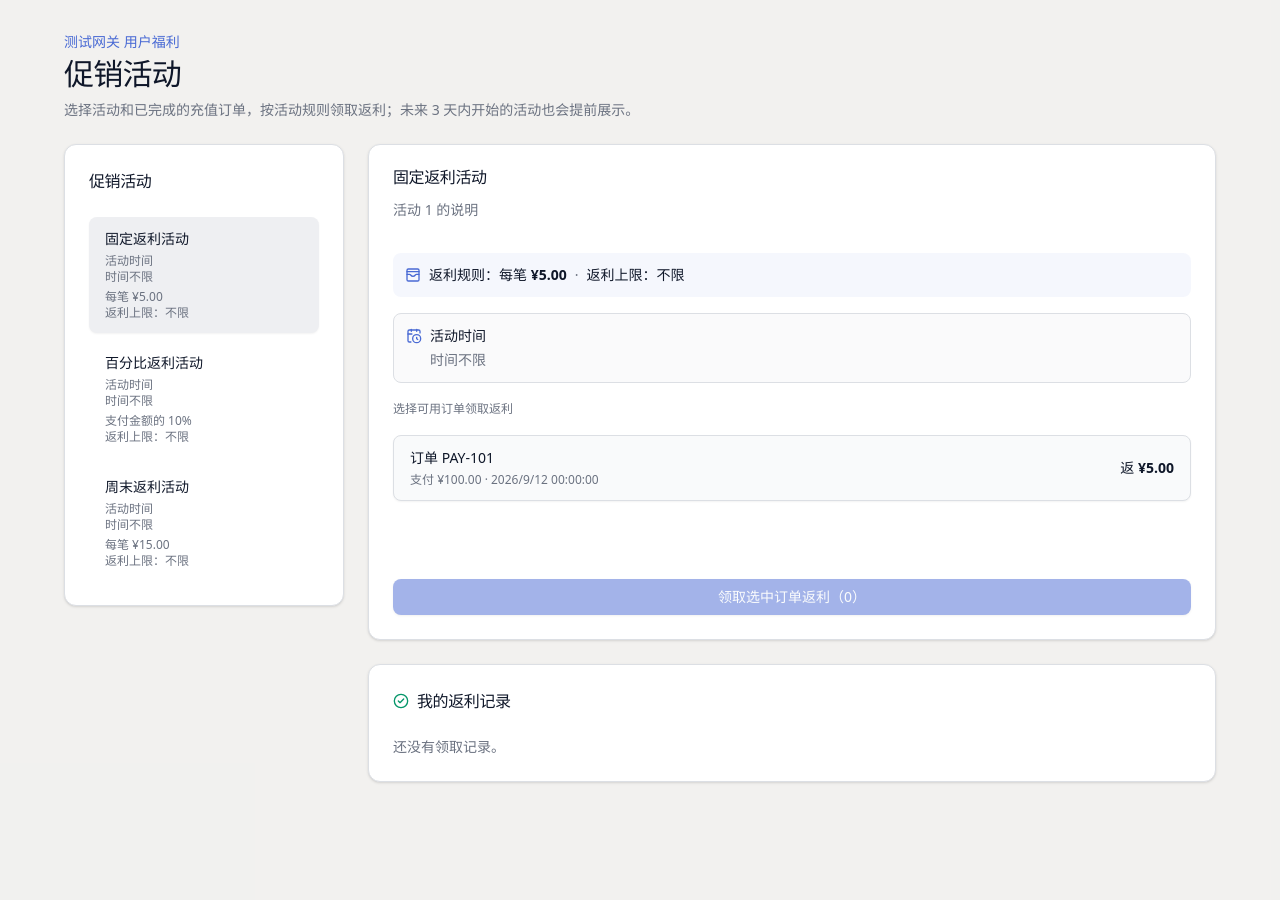
it: 促销活动切换 › 慢请求期间保留当前活动说明和订单节点，禁止领取，完成后一起更新
Click the button "订单 PAY-101 支付 ¥100.00 · 2026/9/12 00:00:00 返 ¥5.00" at [426, 458], box [393,435,1191,501]
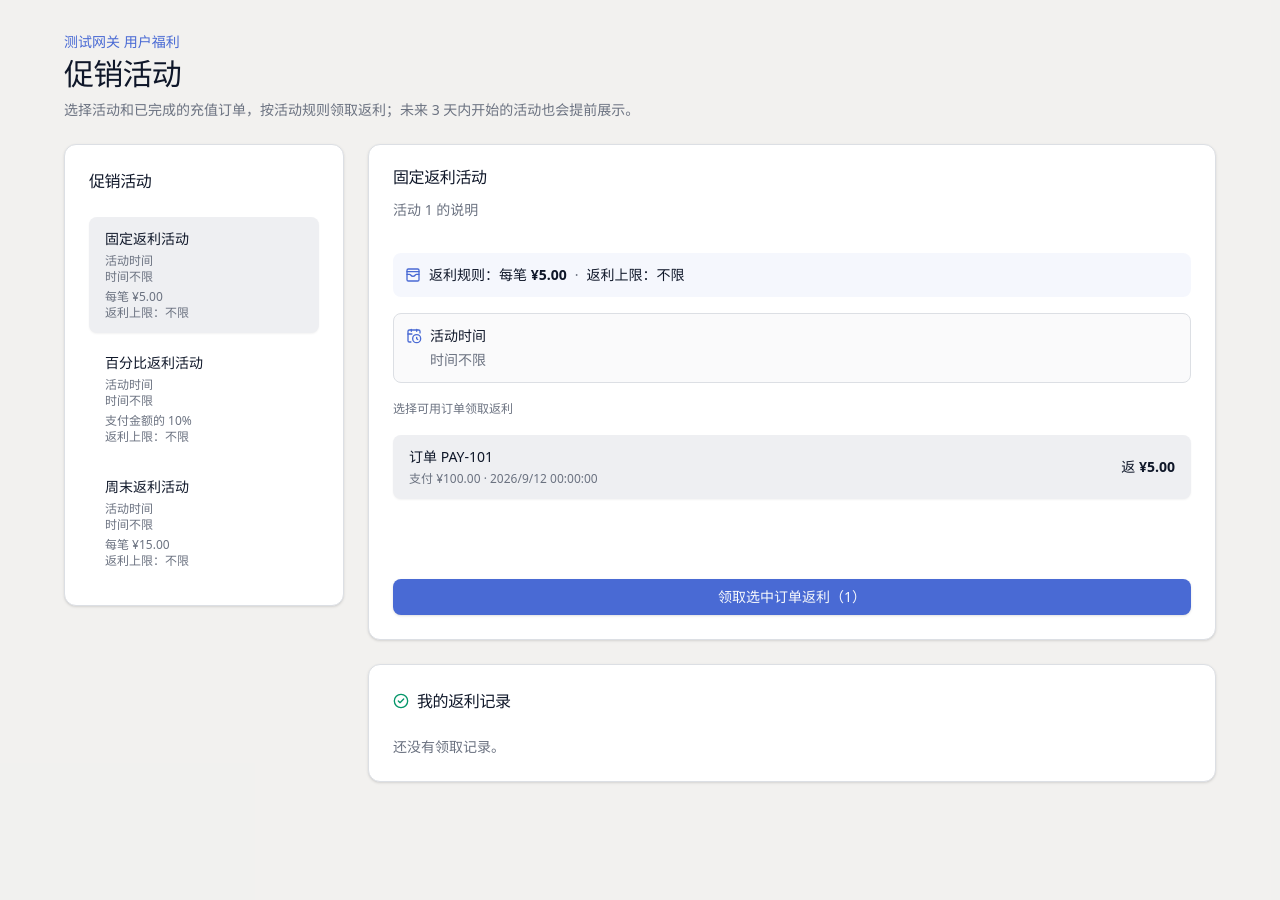
Click the button "百分比返利活动 活动时间 时间不限 支付金额的 10% 返利上限：不限" at [204, 399], box [89,341,319,457]
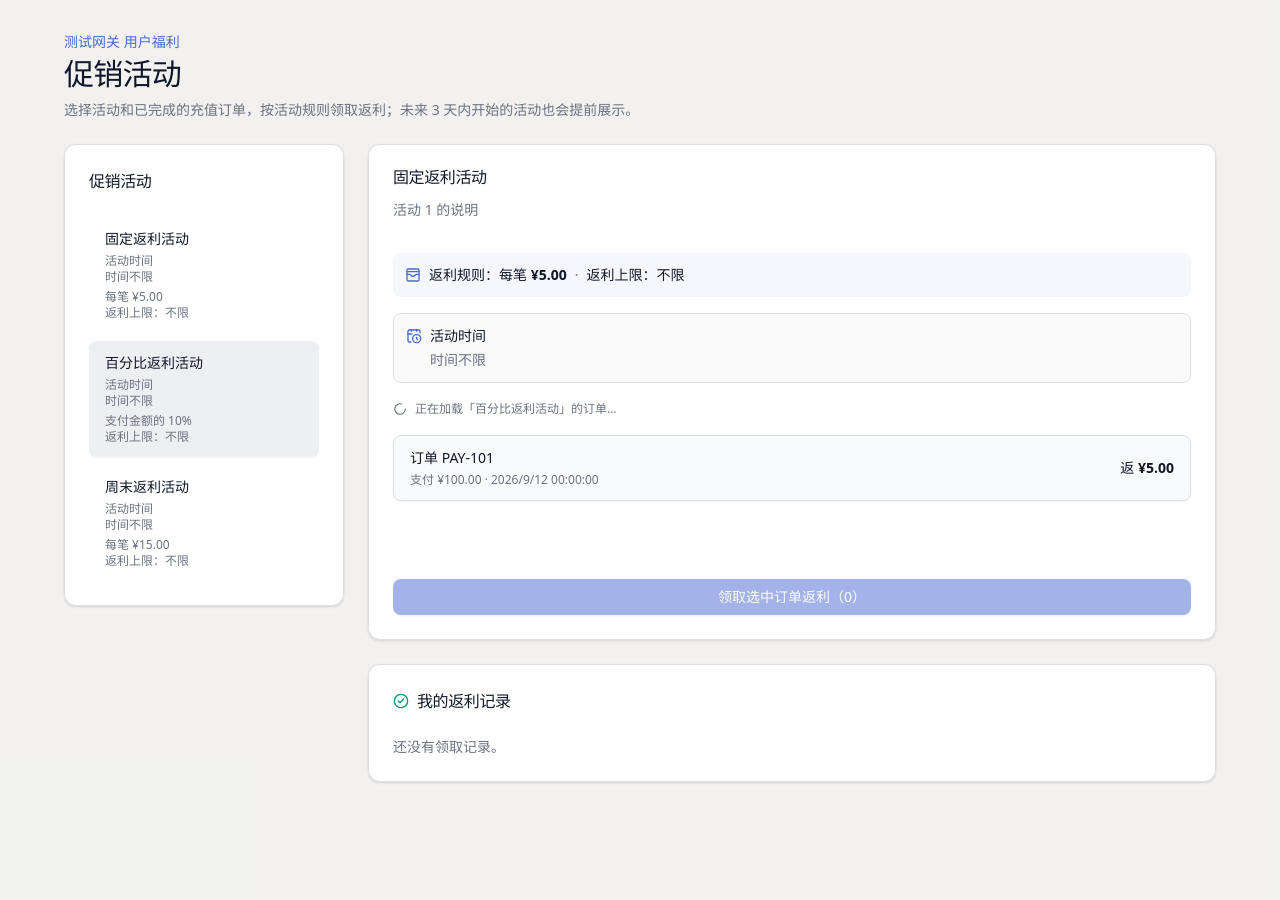
Expected: the button "订单 PAY-101 支付 ¥100.00 · 2026/9/12 00:00:00 返 ¥5.00" is shown, [393,435,1191,501]
Now the button "订单 PAY-101 支付 ¥100.00 · 2026/9/12 00:00:00 返 ¥5.00" is disabled, box [393,435,1191,501]
Now the button "领取选中订单返利（0）" is disabled
Click the button "领取选中订单返利（0）" at [792, 597], box [393,579,1191,615]
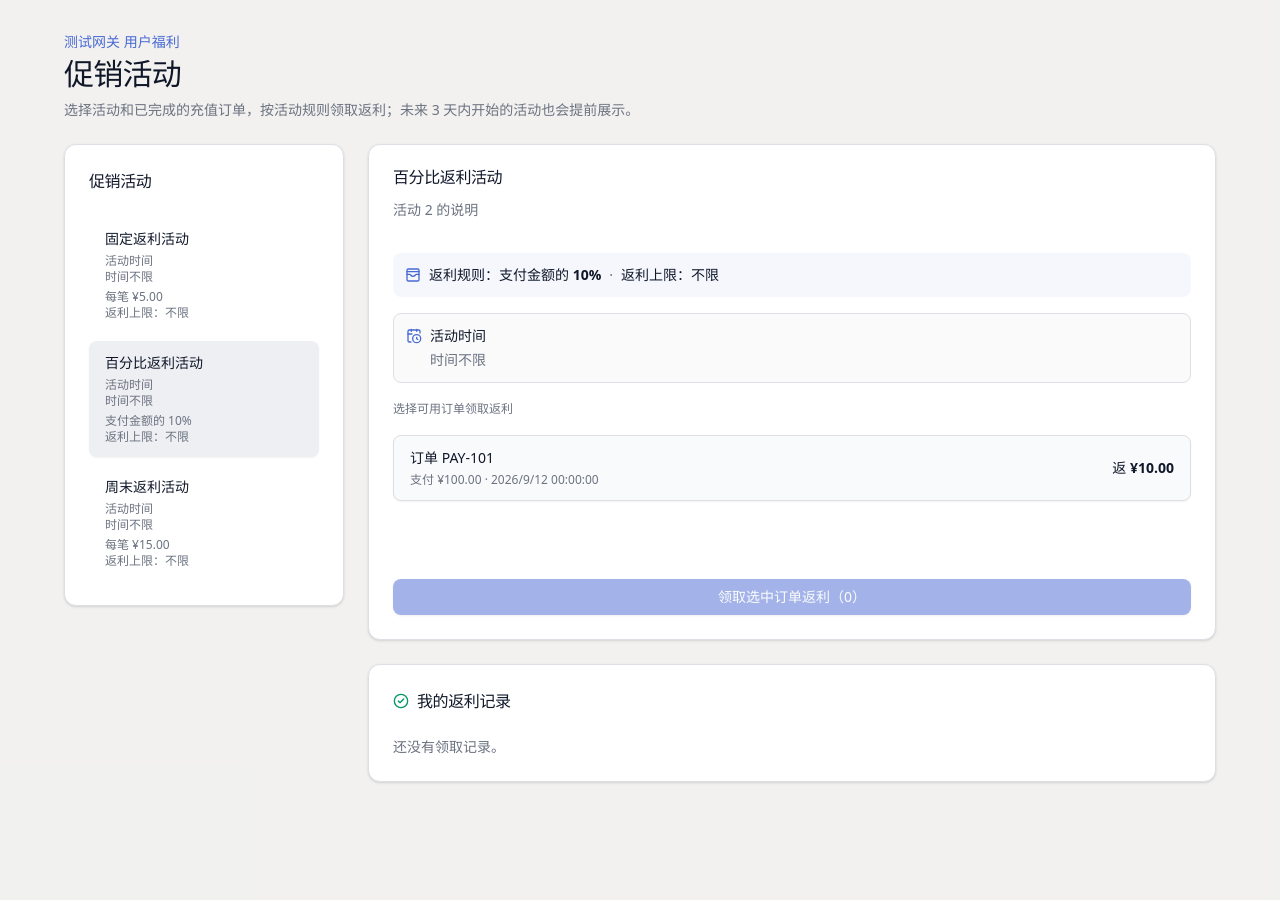
Now the button "订单 PAY-101 支付 ¥100.00 · 2026/9/12 00:00:00 返 ¥10.00" is enabled, box [393,435,1191,501]
Now the button "订单 PAY-101 支付 ¥100.00 · 2026/9/12 00:00:00 返 ¥10.00" is shown, box [393,435,1191,501]
Now the text "活动 2 的说明" is shown, box [393,200,478,219]
